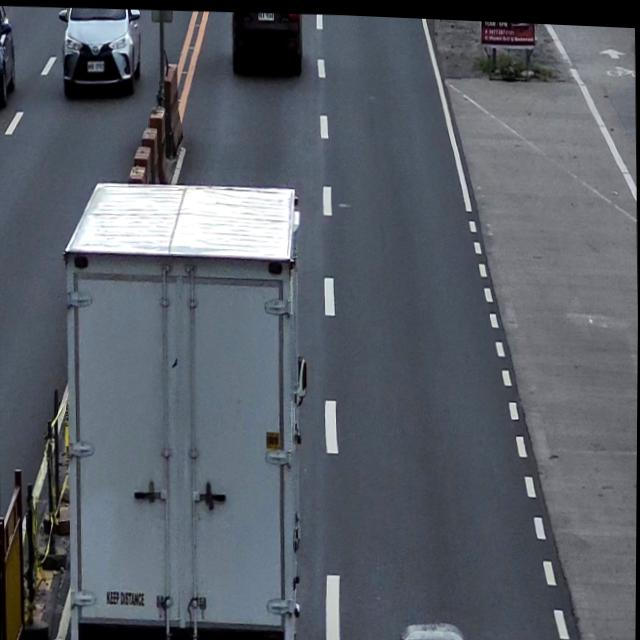Car: (57, 6, 143, 102), (232, 9, 304, 83), (0, 5, 17, 113)
License-Plate: (86, 59, 105, 73), (257, 10, 276, 19)
Truck: (61, 172, 315, 640)
